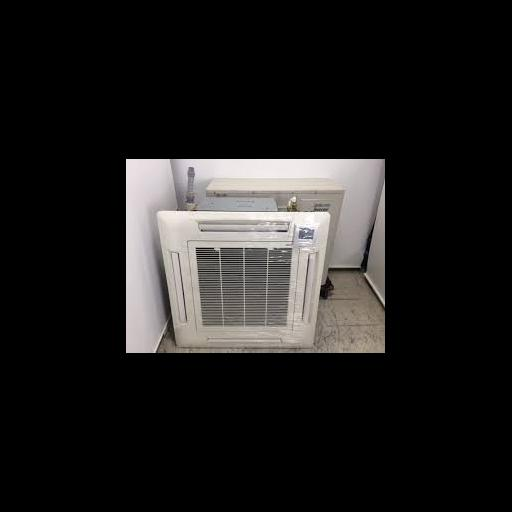4-way-ac: (156, 210, 331, 349)
